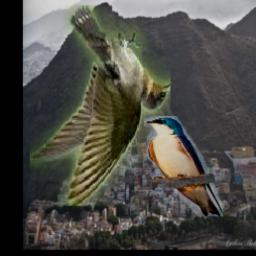Swallow: (30, 5, 171, 206), (144, 116, 223, 216)
